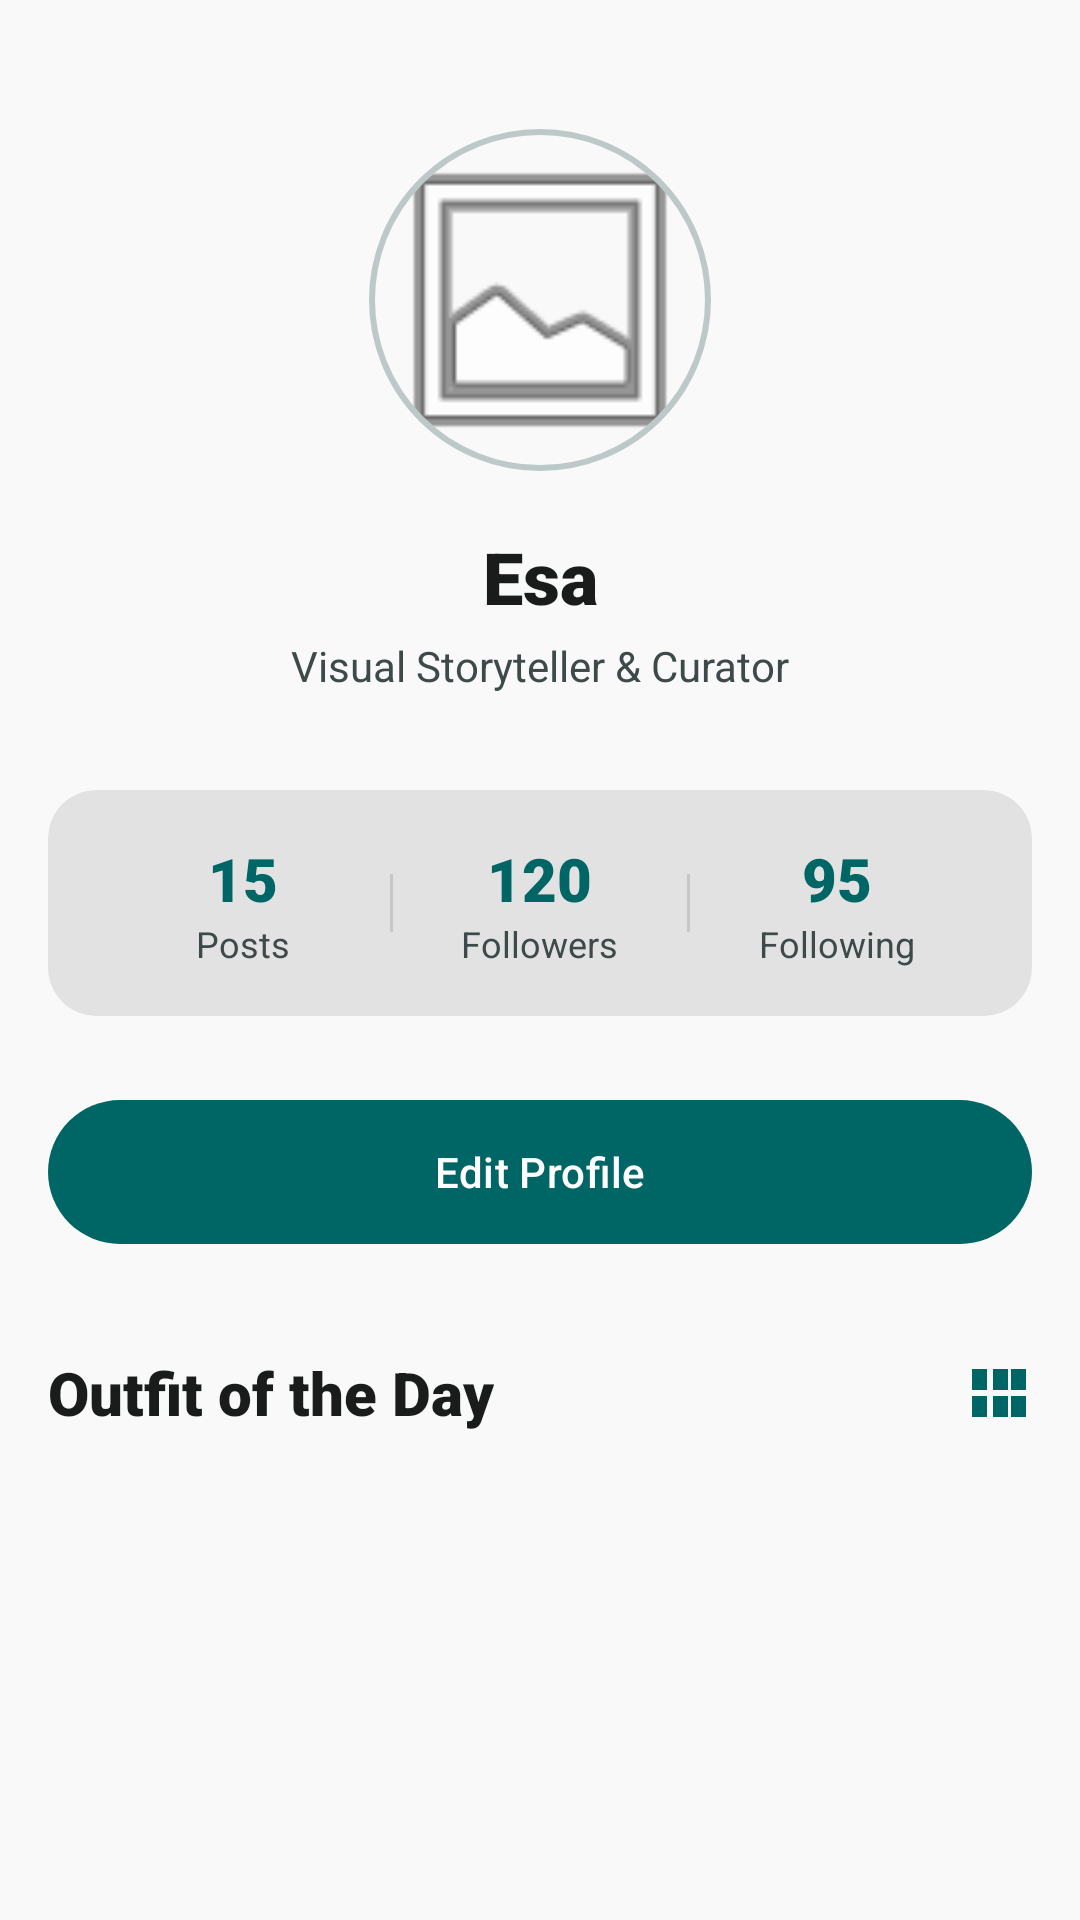

Icons on this 1080*1920 Android screen, each with its box as (x1, y1, x2, y2):
gallery: (369, 129, 711, 471)
grid: (972, 1369, 1026, 1417)
